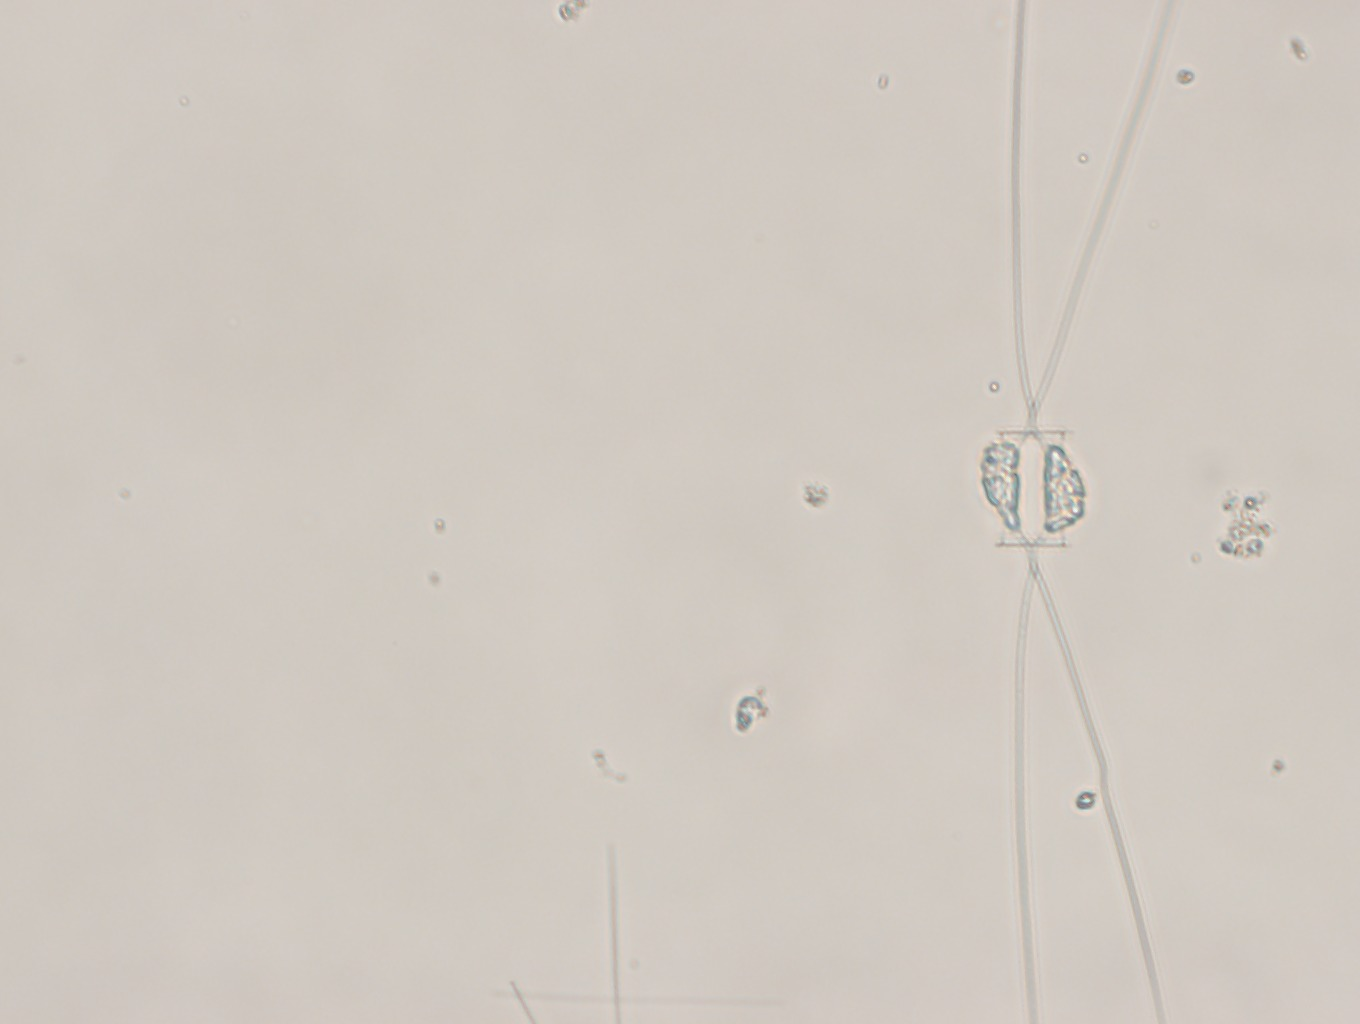chaetoceros: (958, 3, 1190, 1024)
